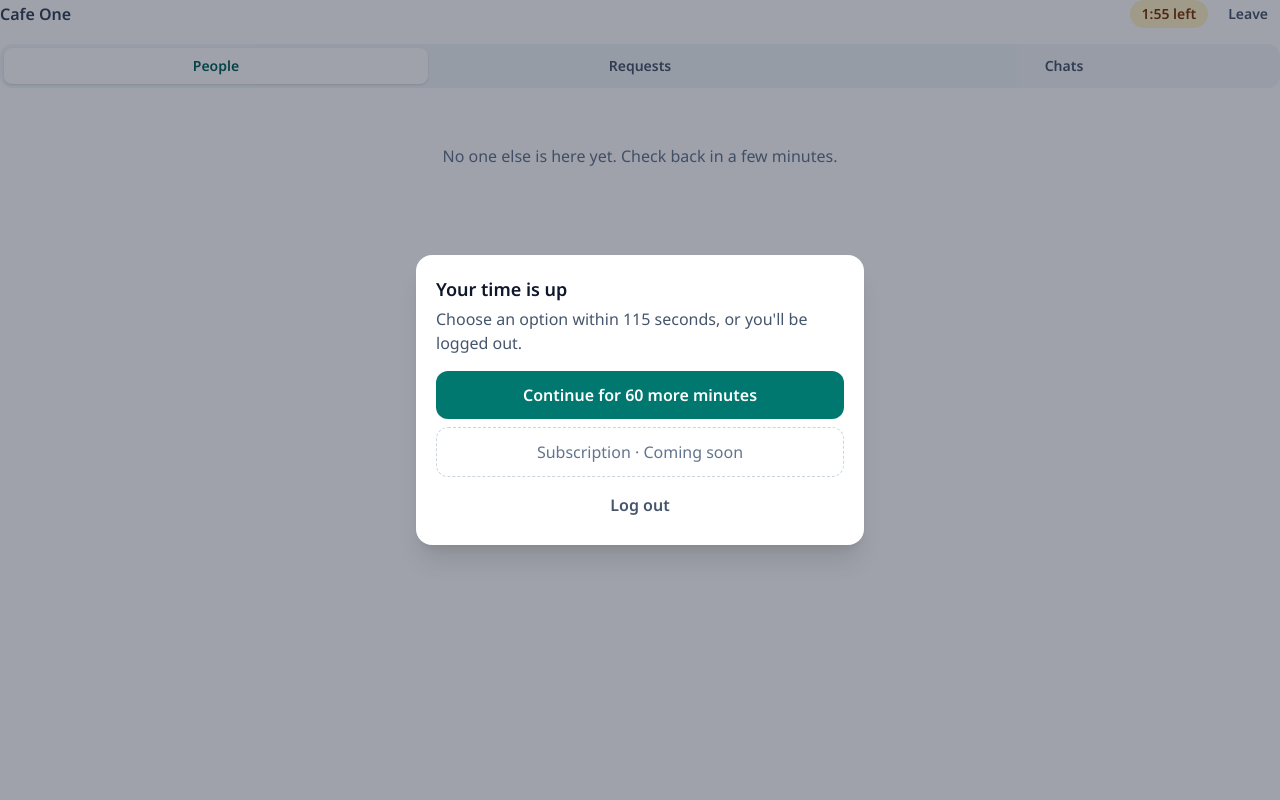
Test: HomePage › offers to continue free when the time is up
Expected: the heading "Your time is up" is shown, x1=436 y1=277 x2=567 y2=301
Click the button "Continue for 60 more minutes": (640, 395) x1=436 y1=371 x2=844 y2=419
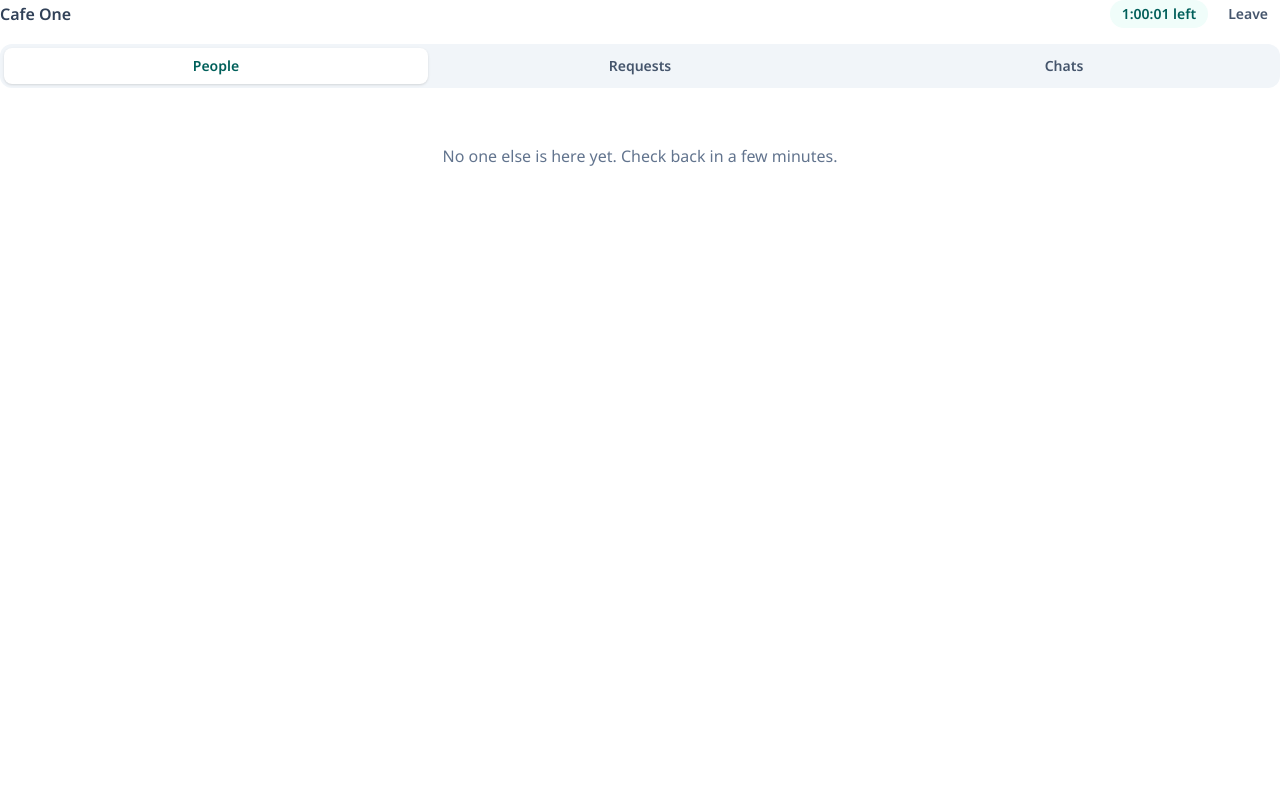
Expected: the dialog is gone
